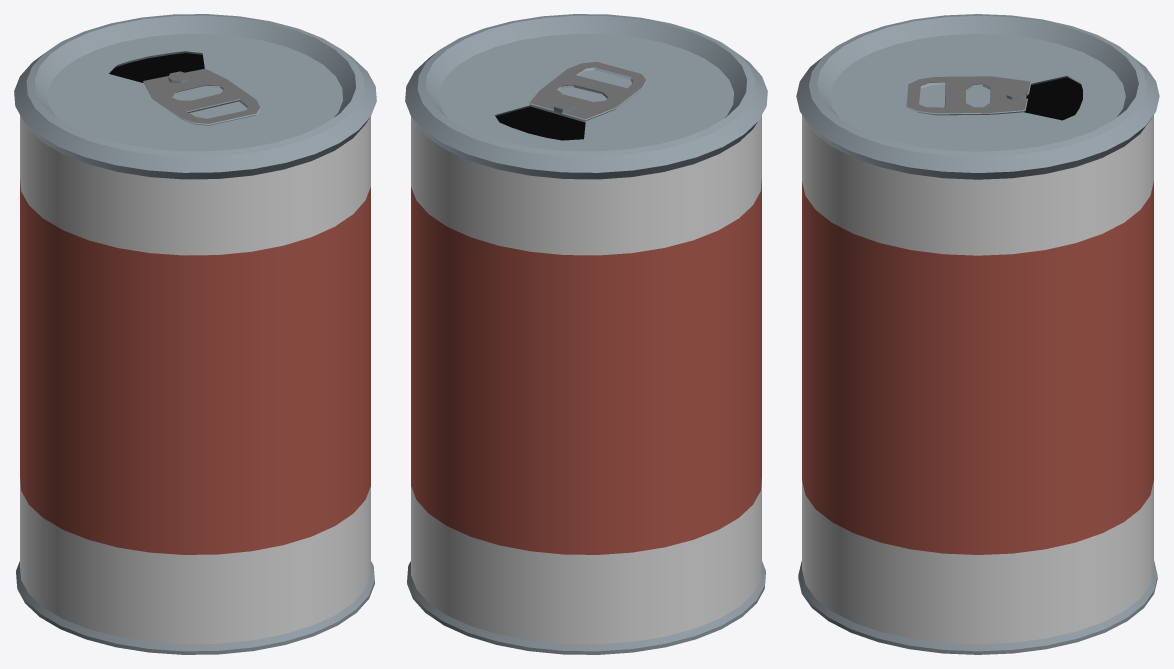
File: simple can.fbx
3 renders of one model, left to right at view 1: azimuth 30°, elevation 25°; view 2: azimuth 150°, elevation 25°; view 3: azimuth 270°, elevation 25°, orthographic.
Visible parts, largest first — view 1: Cylinder; view 2: Cylinder; view 3: Cylinder.
Part boxes in pixels (<box>): Cylinder: <box>14,14,376,654</box>; Cylinder: <box>405,14,767,654</box>; Cylinder: <box>796,14,1159,654</box>.
Size of the model in its own units: 207 by 315 by 207.
